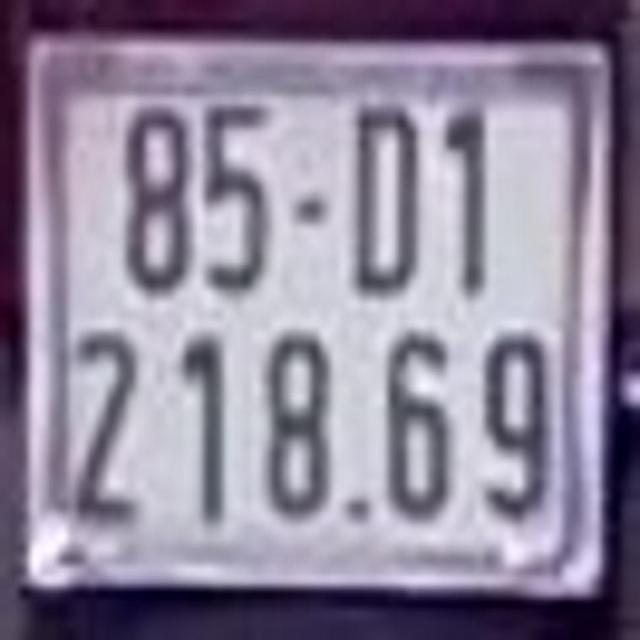1: (180, 337, 232, 513), (451, 114, 496, 287)
2: (73, 330, 138, 513)
5: (202, 105, 277, 290)
6: (384, 332, 446, 522)
8: (126, 104, 190, 289), (274, 332, 330, 519)
9: (482, 328, 546, 514)
D: (351, 98, 418, 289)
